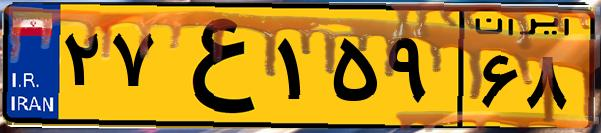1: (270, 28, 330, 110)
2: (57, 26, 110, 100)
5: (330, 28, 385, 110)
6: (475, 38, 525, 113)
7: (110, 28, 158, 98)
8: (525, 38, 570, 115)
9: (385, 28, 445, 110)
ع: (158, 12, 270, 120)
